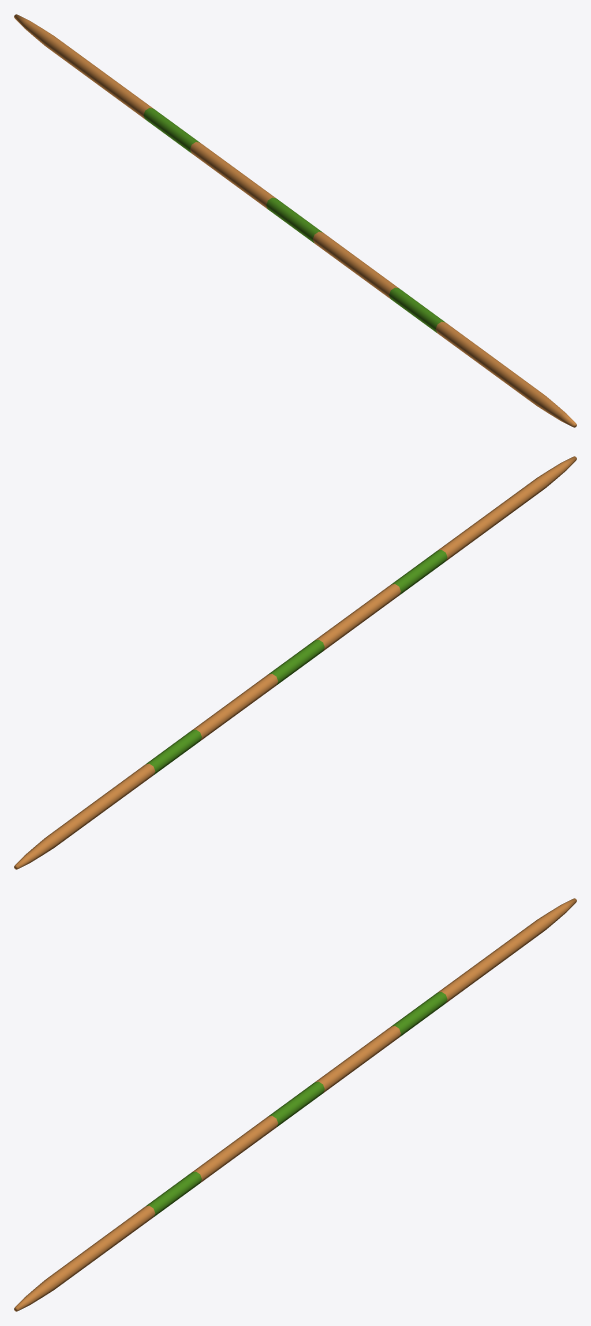
The model's file is SM_Mikado_Samurai.fbx.
3 views of the same model, one above another, from view 1: azimuth 30°, elevation 25°; view 2: azimuth 150°, elevation 25°; view 3: azimuth 330°, elevation 25° (orthographic).
Parts seen in each view (by area): view 1: Mikado_Samurai; view 2: Mikado_Samurai; view 3: Mikado_Samurai.
Part boxes in pixels (<box>): Mikado_Samurai: <box>14,14,576,427</box>; Mikado_Samurai: <box>14,456,576,869</box>; Mikado_Samurai: <box>14,898,576,1311</box>.
Bounding box in the file's own units: 0.3662 × 0.3662 × 29.26.
